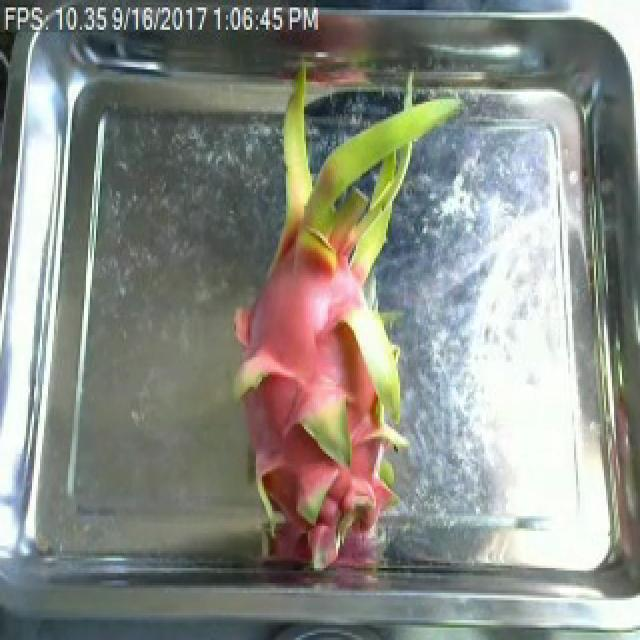fruit: (212, 171, 456, 588)
